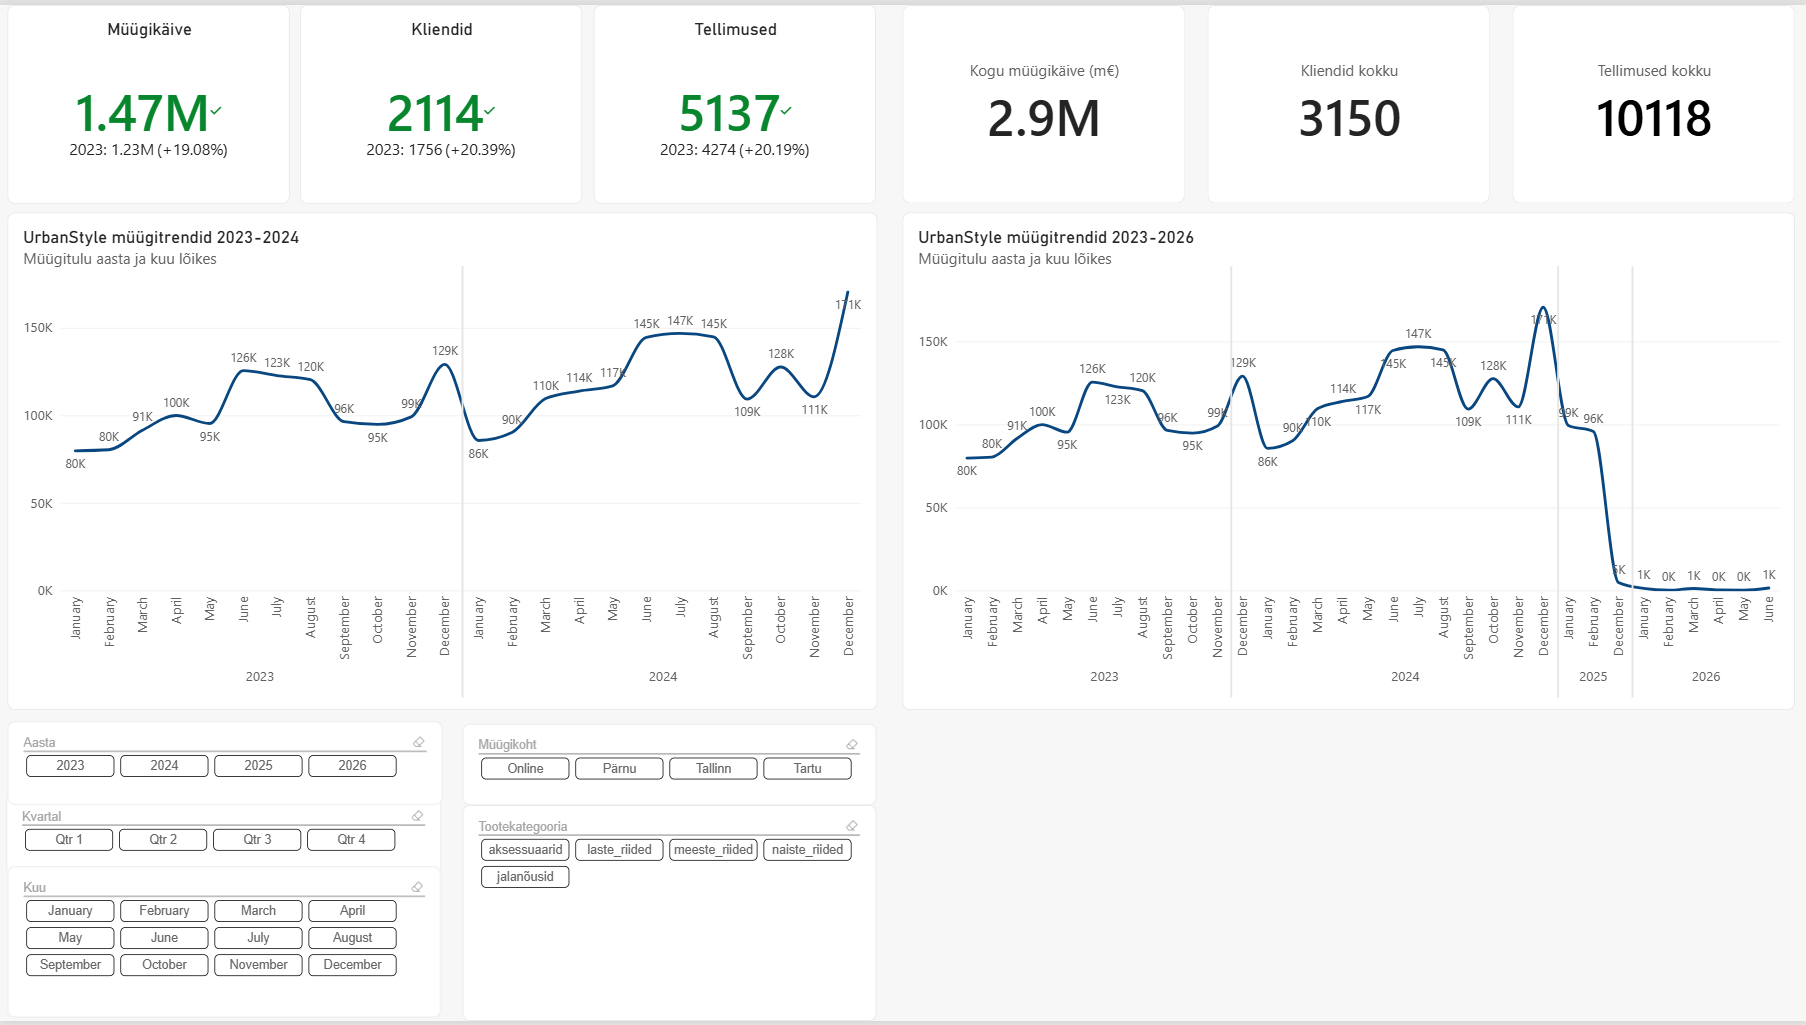

The dashboard page shown, as its layout file describes it:
{"tool":"powerbi","page":{"name":"w5_GT","canvas":[1920,1080],"ordinal":0},"visuals":[{"type":"lineChart","title":"UrbanStyle müügitrendid 2023-2024","fields":{"Category":["public sales.sale_date.Variation.Date Hierarchy.Year","public sales.sale_date.Variation.Date Hierarchy.Month"],"Y":["Sum(public sales.total_price)"]},"box":[8,220.6,924.9,528.9],"z":0},{"type":"cardVisual","title":"Müügikäive","fields":{"Data":["Sum(public sales.total_price)"]},"box":[959.5,0,300.3,211.3],"z":1000},{"type":"kpi","title":"Kliendid","fields":{"Goal":["public customers.Customers 2023"],"Indicator":["public customers.Customers 2024"],"TrendLine":["public sales.sale_date"]},"box":[318.9,0,300.3,211.3],"z":2000},{"type":"kpi","title":"Tellimused","fields":{"Goal":["public customers.Orders 2023"],"Indicator":["public customers.Orders 2024"],"TrendLine":["public sales.sale_date"]},"box":[631.7,0,300.3,211.3],"z":3000},{"type":"lineChart","title":"UrbanStyle müügitrendid 2023-2026","fields":{"Category":["public sales.sale_date.Variation.Date Hierarchy.Year","public sales.sale_date.Variation.Date Hierarchy.Month"],"Y":["Sum(public sales.total_price)"]},"box":[959.5,220.6,948.8,528.9],"z":4000},{"type":"kpi","title":"Müügikäive","fields":{"Goal":["public customers.Revenue 2023"],"Indicator":["public customers.Revenue 2024"],"TrendLine":["public sales.sale_date"]},"box":[7.4,0,300.3,211.3],"z":5000},{"type":"cardVisual","fields":{"Data":["CountNonNull(public customers.customer_id)"]},"box":[1283.7,0,300.3,211.3],"z":6000},{"type":"cardVisual","fields":{"Data":["CountNonNull(public sales.sale_id)"]},"box":[1608,0,300.3,211.3],"z":7000},{"type":"shape","box":[1213.3,277.7,191.4,458.5],"z":8000},{"type":"shape","box":[396,277.7,191.4,458.5],"z":9000},{"type":"shape","box":[1561.5,277.7,190,458.5],"z":10000},{"type":"shape","box":[1639.9,277.7,191.4,458.5],"z":11000},{"type":"ChicletSlicer1448559807354","fields":{"Category":["public sales.sale_date.Variation.Date Hierarchy.Quarter"]},"box":[6.6,839.9,462.5,85.1],"z":12000},{"type":"ChicletSlicer1448559807354","fields":{"Category":["public sales.sale_date.Variation.Date Hierarchy.Year"]},"box":[8,761.5,462.5,89],"z":13000},{"type":"ChicletSlicer1448559807354","fields":{"Category":["public sales.sale_date.Variation.Date Hierarchy.Month"]},"box":[8,915.6,461.1,160.8],"z":14000},{"type":"ChicletSlicer1448559807354","fields":{"Category":["public products.category"]},"box":[491.7,850.5,439.9,229.9],"z":15000},{"type":"ChicletSlicer1448559807354","fields":{"Category":["public sales.Müügikoht"]},"box":[491.7,764.1,439.9,86.4],"z":16000}]}

Visuals, with their boxes in screenshot pixels (x1, y1, x2, y2), scaled from the page's 1920x1080 canvas onto the 1806x1025 screenshot:
"UrbanStyle müügitrendid 2023-2024" lineChart: x1=8 y1=209 x2=878 y2=711
"Müügikäive" cardVisual: x1=903 y1=0 x2=1185 y2=201
"Kliendid" kpi: x1=300 y1=0 x2=582 y2=201
"Tellimused" kpi: x1=594 y1=0 x2=877 y2=201
"UrbanStyle müügitrendid 2023-2026" lineChart: x1=903 y1=209 x2=1795 y2=711
"Müügikäive" kpi: x1=7 y1=0 x2=289 y2=201
cardVisual - CountNonNull(public customers.customer_id): x1=1207 y1=0 x2=1490 y2=201
cardVisual - CountNonNull(public sales.sale_id): x1=1513 y1=0 x2=1795 y2=201
shape: x1=1141 y1=264 x2=1321 y2=699
shape: x1=372 y1=264 x2=553 y2=699
shape: x1=1469 y1=264 x2=1648 y2=699
shape: x1=1543 y1=264 x2=1723 y2=699
ChicletSlicer1448559807354 - public sales.sale_date.Variation.Date Hierarchy.Quarter: x1=6 y1=797 x2=441 y2=878
ChicletSlicer1448559807354 - public sales.sale_date.Variation.Date Hierarchy.Year: x1=8 y1=723 x2=443 y2=807
ChicletSlicer1448559807354 - public sales.sale_date.Variation.Date Hierarchy.Month: x1=8 y1=869 x2=441 y2=1022
ChicletSlicer1448559807354 - public products.category: x1=463 y1=807 x2=876 y2=1024
ChicletSlicer1448559807354 - public sales.Müügikoht: x1=463 y1=725 x2=876 y2=807
